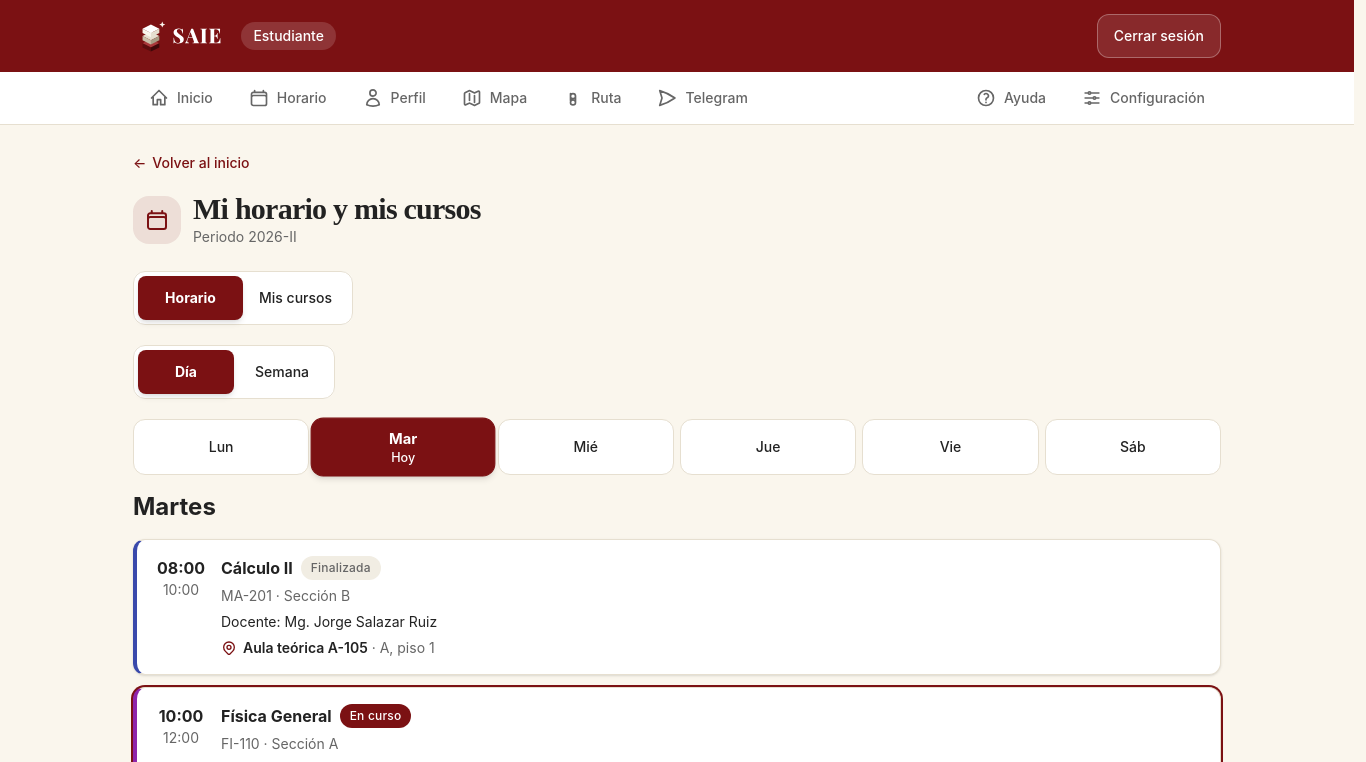
it: HorarioMisCursos (Issue #145 / 3.16) › vista semanal › muestra en cada bloque el curso, la sección, el tipo de espacio y el aula
The width and height of the screenshot is (1366, 762).
Click the button "Semana". click: (282, 372)
box: [234, 350, 330, 394]
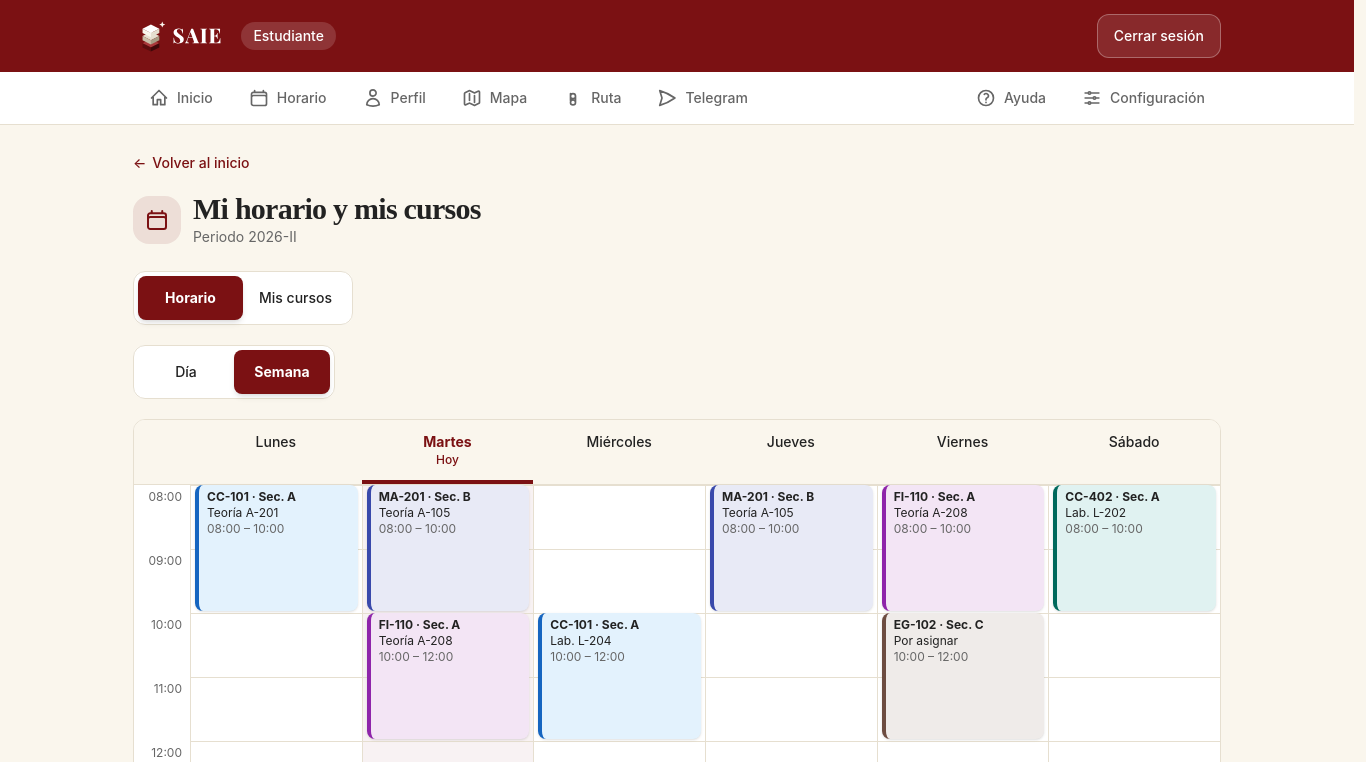
Check: the 1st text "MA-201 · Sec. B" is shown, box [379, 489, 471, 504]
Check: the 1st text "Teoría A-105" is shown, box [379, 505, 450, 520]
Check: the text "Por asignar" is shown, box [894, 633, 958, 648]
